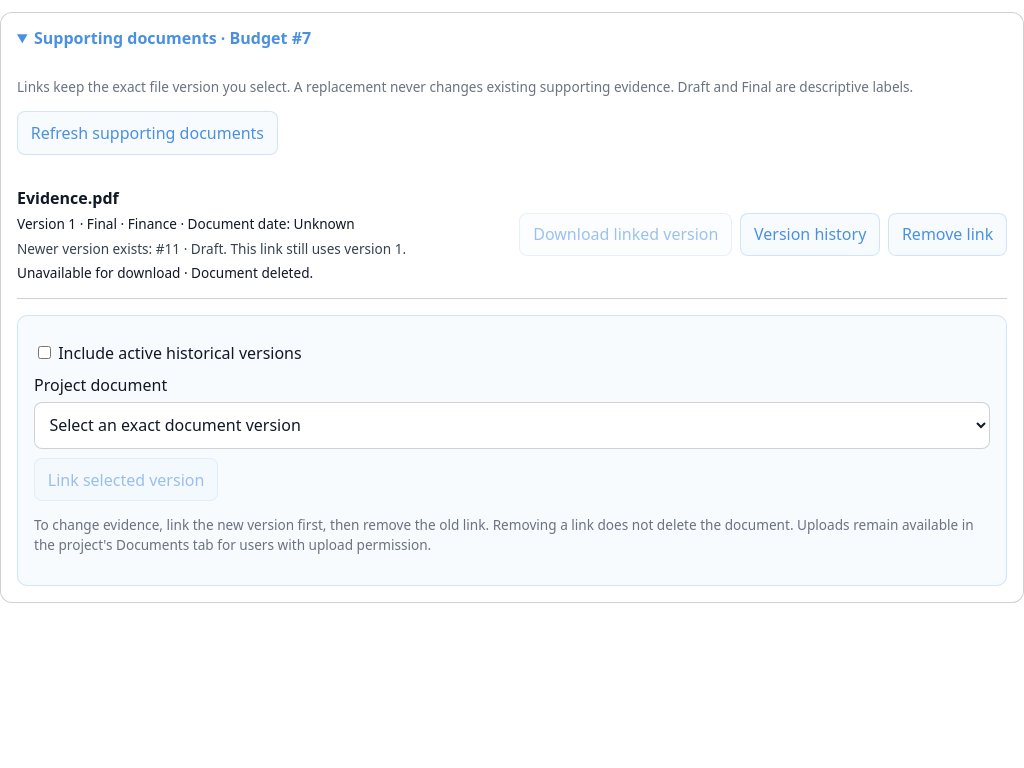
Test: unavailable evidence stays visible, cannot download, and unlink does not delete the document
Expected: the text "Evidence.pdf" is shown, [17,186,119,208]
Expected: the button "Download linked version" is disabled, [520,213,732,256]
Click the button "Remove link".
click(948, 234)  # box [888,213,1007,256]
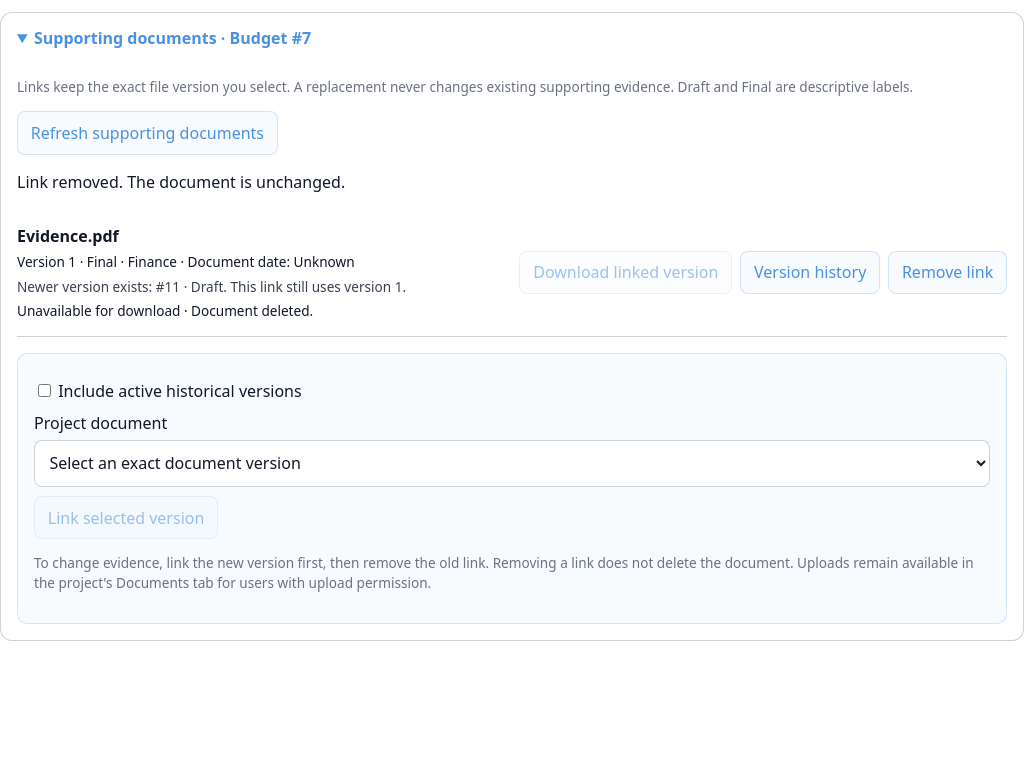
Now the text "Link removed. The document is unchanged." is shown, box [17,170,345,192]
